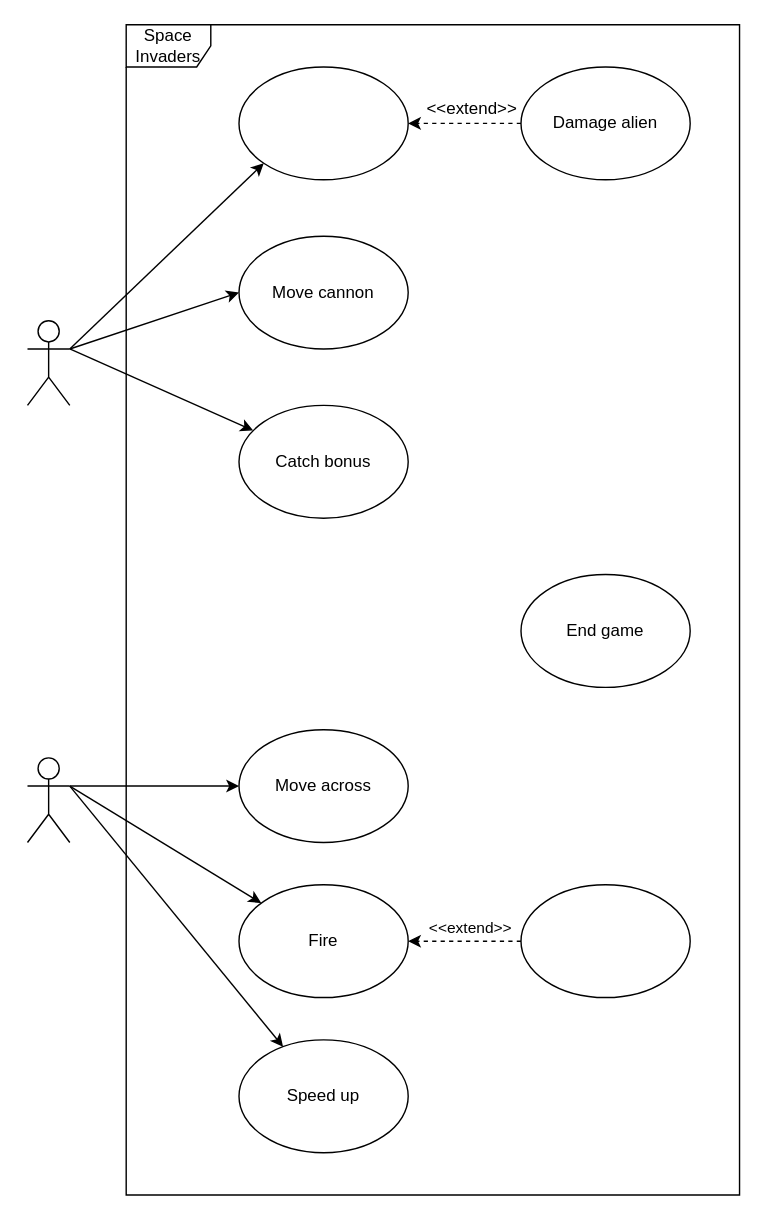
This 764x1220 diagram has some shape labels left out. Here are the shapes that lost their labels. From the top down, the box of each, then its label:
(238, 66, 408, 180): Fire cannon
(26, 319, 70, 405): Player
(26, 756, 70, 842): Aliens
(520, 883, 690, 998): Damage player
